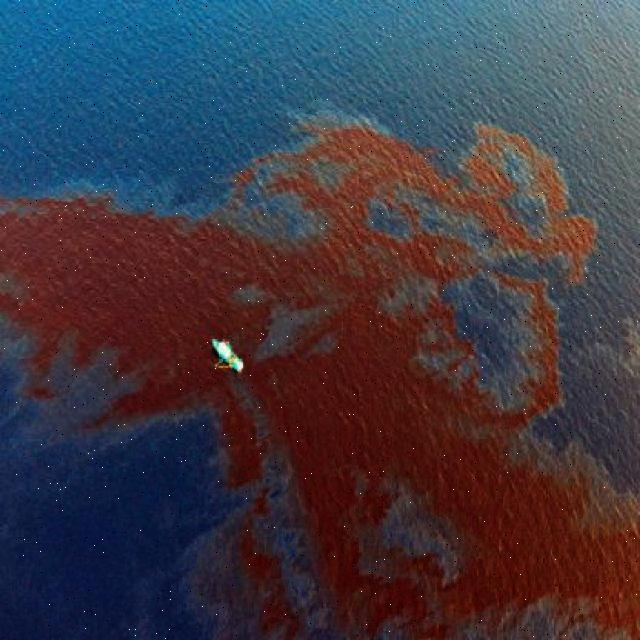oil: (3, 94, 640, 634)
